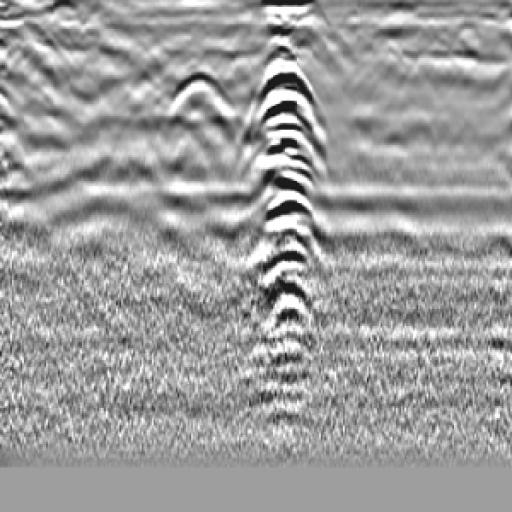metalic: (249, 30, 330, 402)
nonmetalic: (164, 68, 237, 143)
